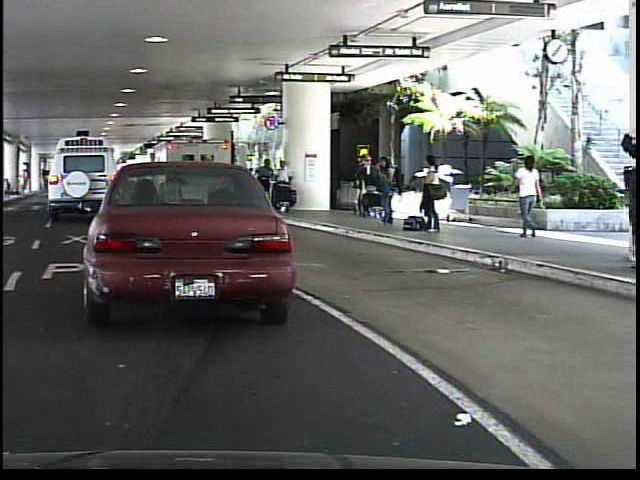person: (508, 154, 546, 240), (414, 152, 442, 234), (631, 114, 634, 272)
